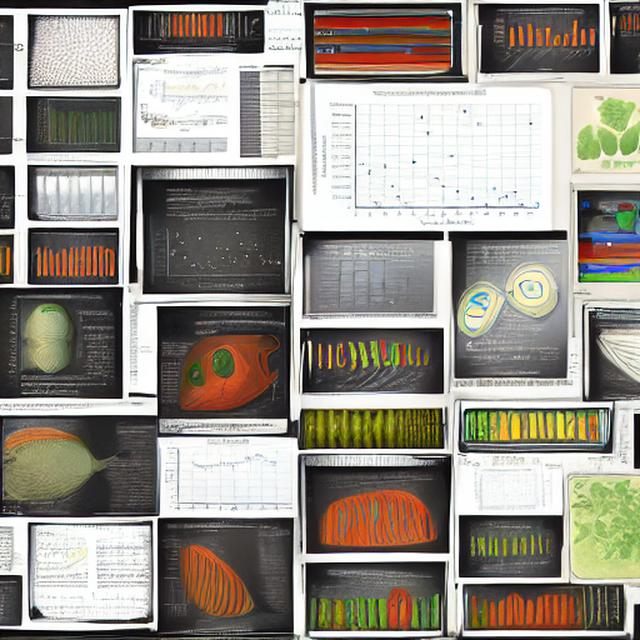Graph: (317, 87, 546, 229), (148, 211, 283, 292), (163, 441, 295, 515), (489, 5, 600, 72), (29, 232, 118, 285), (37, 96, 121, 152), (155, 71, 229, 114), (474, 469, 540, 513)
